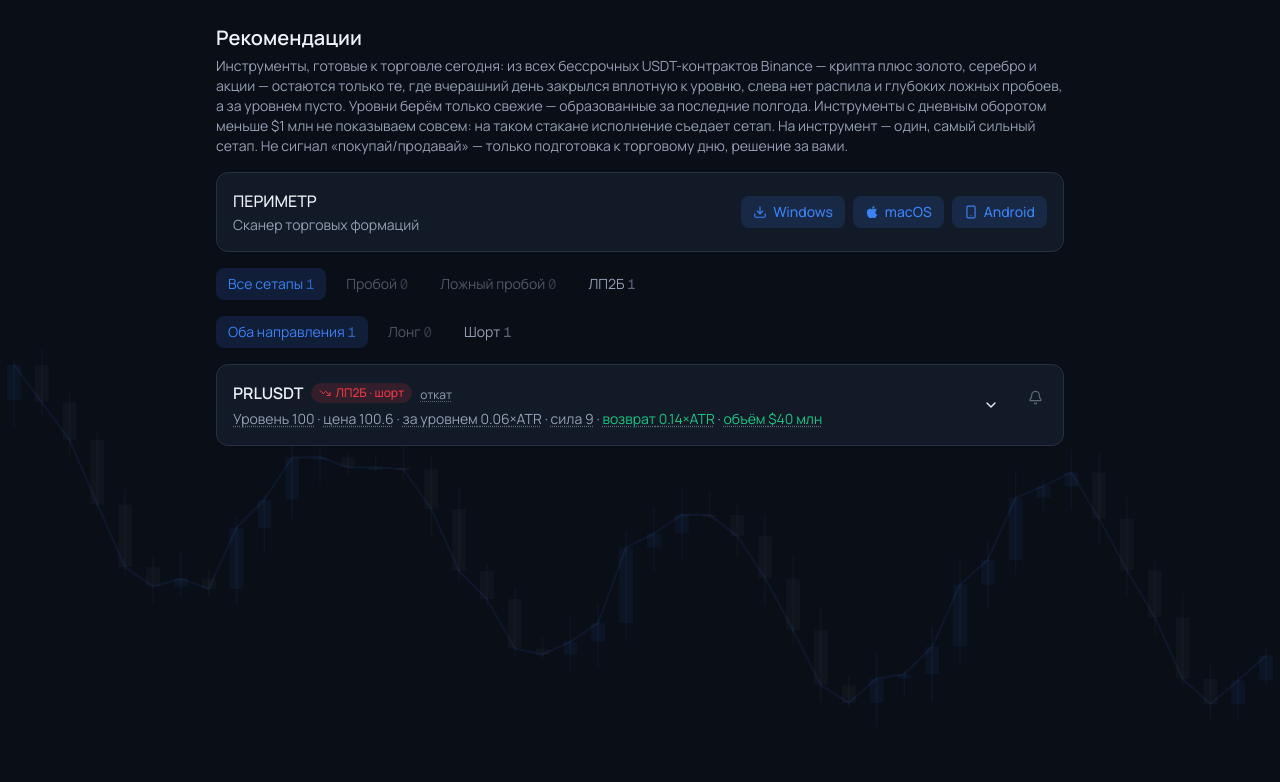
Scenario: ЛП2Б card › shows the return path instead of the distance to the level
Expected: the text "ЛП2Б · шорт" is shown, [312,383,412,403]
Expected: the text "за уровнем 0.06×ATR" is shown, [403,409,542,428]
Click the text "PRLUSDT" at (268, 393), box [233,381,304,405]
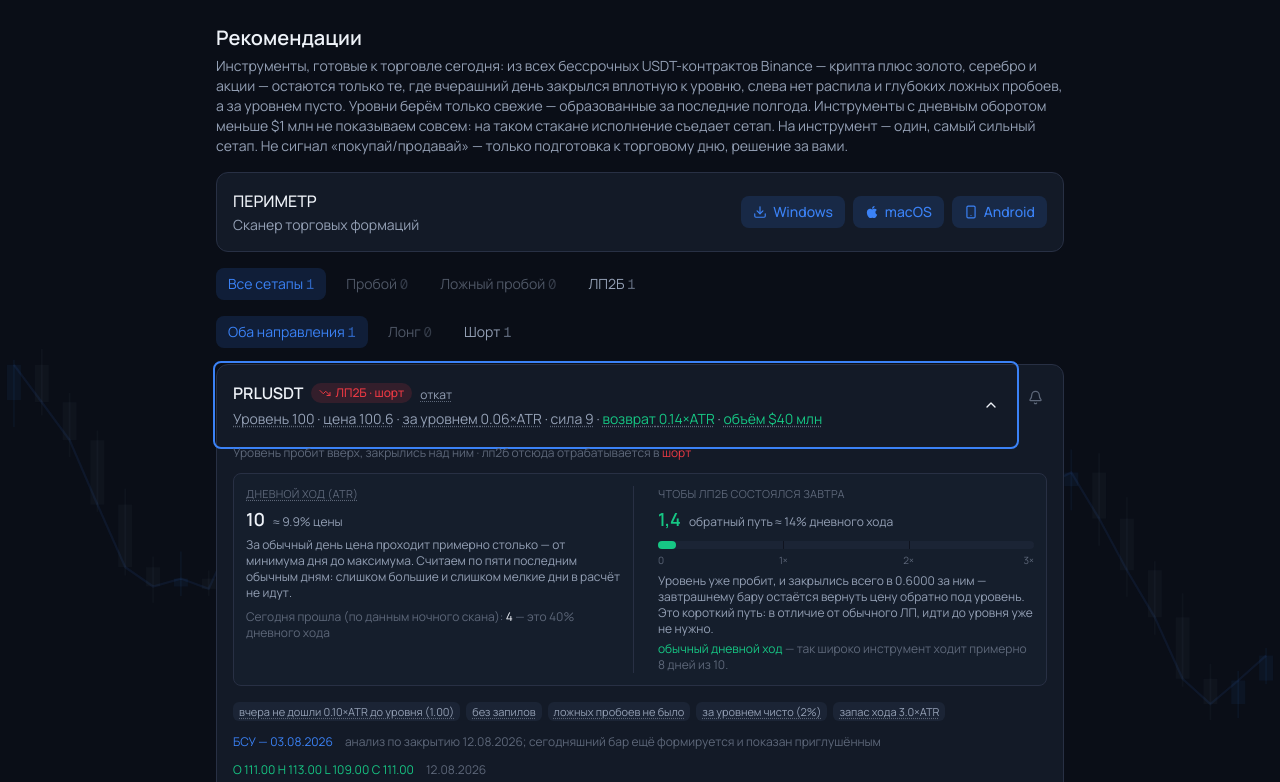
Now the text "Чтобы ЛП2Б состоялся завтра" is shown, box [658,486,845,501]
Now the text "Уровень уже пробит" is shown, box [658,572,893,588]
Now the text "Уровень пробит вверх, закрылись над ним" is shown, box [233,444,474,461]
